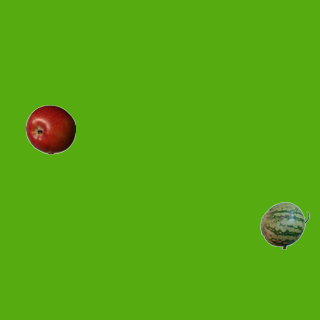Apple Braeburn: (25, 104, 75, 154)
Watermelon: (259, 200, 309, 250)
